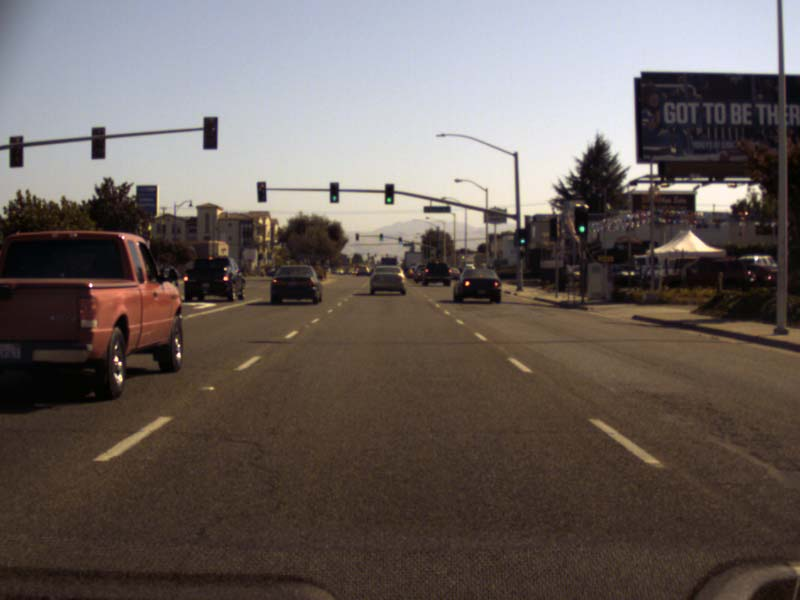Green: (575, 207, 586, 234), (329, 181, 338, 202), (516, 229, 526, 246), (385, 183, 392, 203)
Red: (257, 182, 265, 200)
